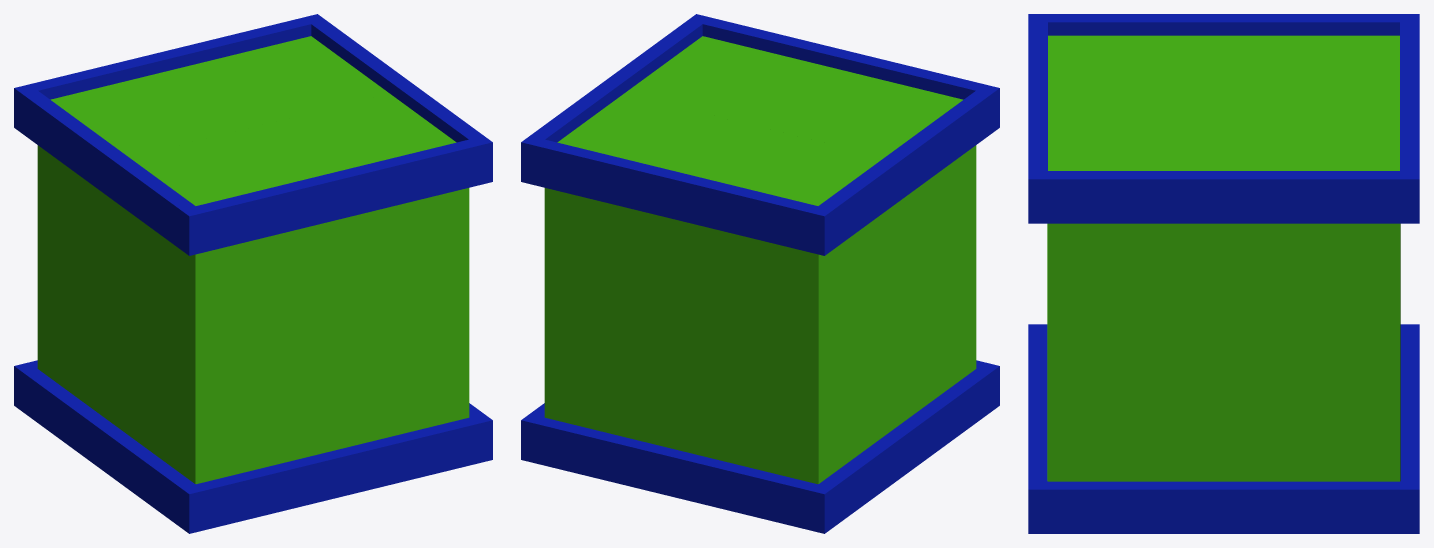
File: breakable_crate_pieces.glb
3 renders of one model, left to right at view 1: azimuth 30°, elevation 25°; view 2: azimuth 150°, elevation 25°; view 3: azimuth 270°, elevation 25°, orthographic. The views are drawn at different scales.
Parts seen in each view (by area): view 1: Sides.005, Sides.006, Sides.007, Sides.008, Rivets.004, Rivets.008, Tops.002, Tops.001, Rivets.001, Rivets.005, Tops.004, Rivets.002 (+3 smaller); view 2: Sides.002, Sides.001, Sides.008, Sides.007, Rivets.002, Rivets.006, Tops.004, Tops.002, Rivets.001, Rivets.005, Tops.001, Rivets.004 (+3 smaller); view 3: Sides.003, Sides.004, Rivets.003, Rivets.007, Tops.002, Tops.004, Tops.001, Rivets.001, Tops.003, Tops.005, Rivets.002, Rivets.006 (+2 smaller).
Boxes of the visible parts, <box> form: Sides.005: <box>332,188,469,450</box>; Sides.006: <box>196,221,332,484</box>; Sides.007: <box>116,203,195,483</box>; Sides.008: <box>37,145,116,426</box>; Rivets.004: <box>189,139,492,255</box>; Rivets.008: <box>189,417,492,533</box>; Tops.002: <box>90,65,389,157</box>; Tops.001: <box>50,36,350,128</box>; Rivets.001: <box>14,88,195,255</box>; Rivets.005: <box>14,366,195,533</box>; Tops.004: <box>168,122,456,205</box>; Rivets.002: <box>15,14,317,99</box>; Sides.002: <box>544,188,681,450</box>; Sides.001: <box>681,221,817,484</box>; Sides.008: <box>818,203,897,483</box>; Sides.007: <box>897,145,976,426</box>; Rivets.002: <box>521,139,824,255</box>; Rivets.006: <box>521,417,824,533</box>; Tops.004: <box>663,36,963,128</box>; Tops.002: <box>585,94,884,186</box>; Rivets.001: <box>818,88,999,255</box>; Rivets.005: <box>818,366,999,533</box>; Tops.001: <box>557,122,844,205</box>; Rivets.004: <box>696,14,998,99</box>; Sides.003: <box>1224,223,1399,481</box>; Sides.004: <box>1048,223,1223,481</box>; Rivets.003: <box>1028,171,1419,223</box>; Rivets.007: <box>1028,481,1419,533</box>; Tops.002: <box>1224,35,1312,170</box>; Tops.004: <box>1048,35,1136,170</box>; Tops.001: <box>1312,35,1399,170</box>; Rivets.001: <box>1029,14,1418,35</box>; Tops.003: <box>1136,35,1224,109</box>; Tops.005: <box>1136,110,1224,170</box>; Rivets.002: <box>1400,14,1419,179</box>; Rivets.006: <box>1400,324,1419,489</box>.
Size of the model in its own units: 0.8 by 0.8 by 0.8.
